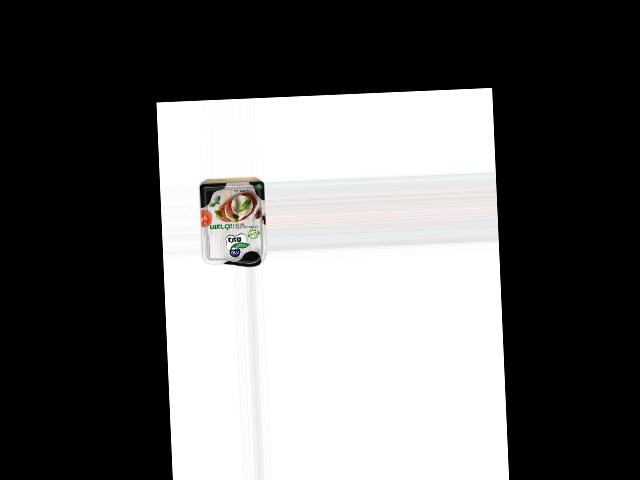cheese: (198, 180, 267, 267)
